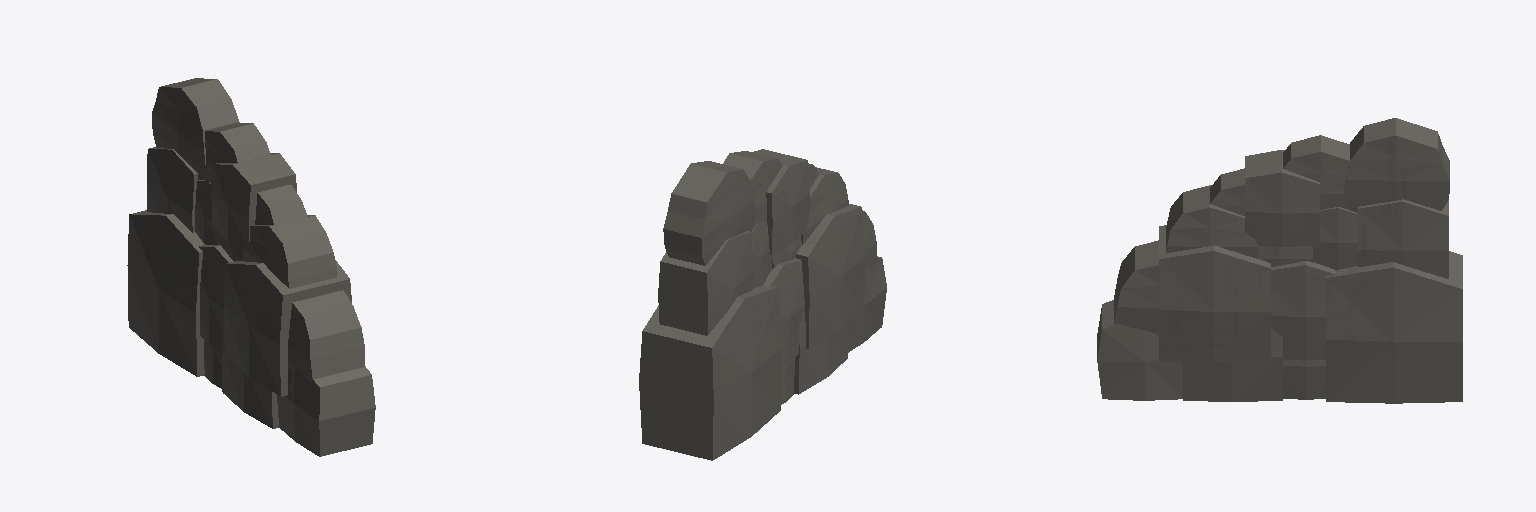
3 views of the same model, side by side, from view 1: azimuth 30°, elevation 25°; view 2: azimuth 150°, elevation 25°; view 3: azimuth 270°, elevation 25° (orthographic).
Parts seen in each view (by area): view 1: がれき壁２; view 2: がれき壁２; view 3: がれき壁２.
Boxes of the visible parts, x1=… form: がれき壁２: x1=127, y1=78, x2=375, y2=456; がれき壁２: x1=639, y1=149, x2=886, y2=460; がれき壁２: x1=1097, y1=118, x2=1462, y2=403.
Size of the model in its own units: 2.22 by 6.8 by 8.67.
1 materials, 1 textured.